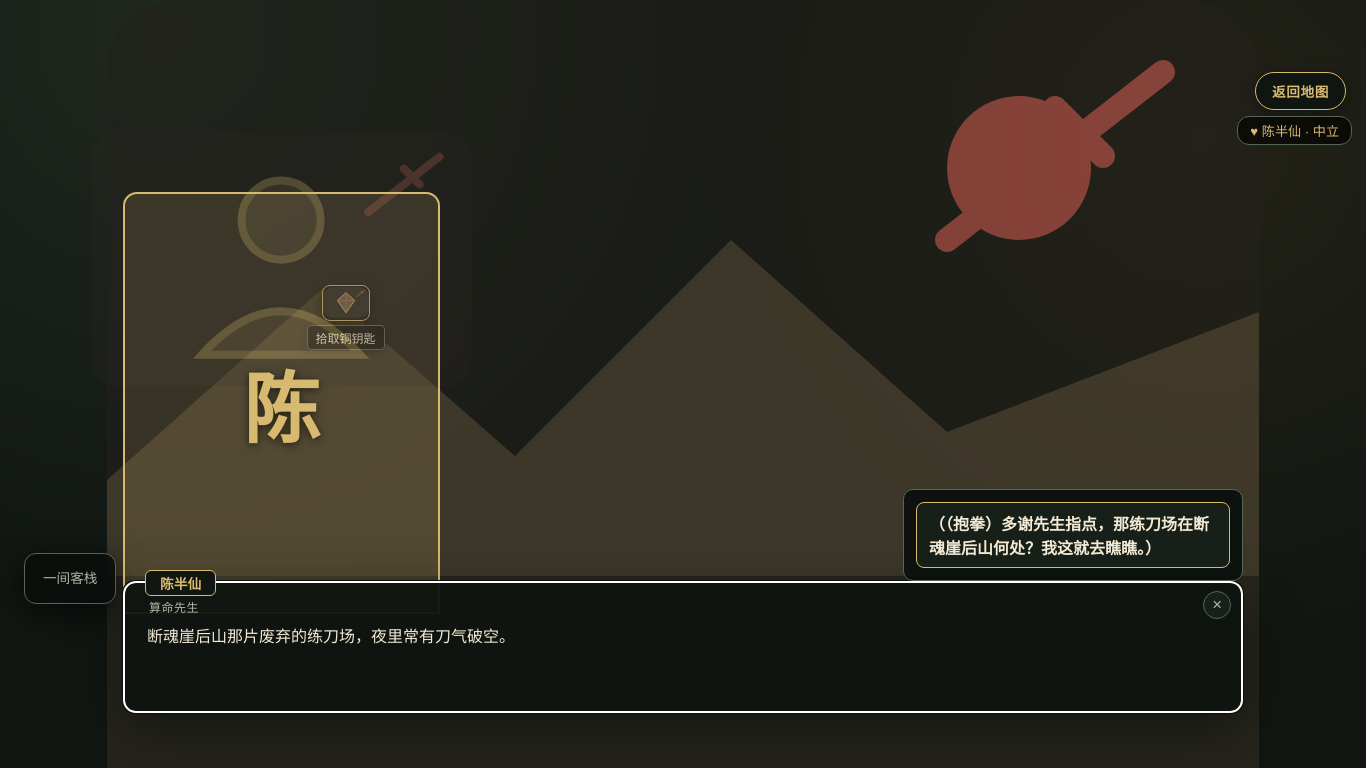
AdventureGameShell canonical opaque choices › closes a handoff acknowledgement locally without submitting or waiting
The image size is (1366, 768).
Click the button "（（抱拳）多谢先生指点，那练刀场在断魂崖后山何处？我这就去瞧瞧。）".
click(1073, 535)  # box [916, 502, 1230, 568]
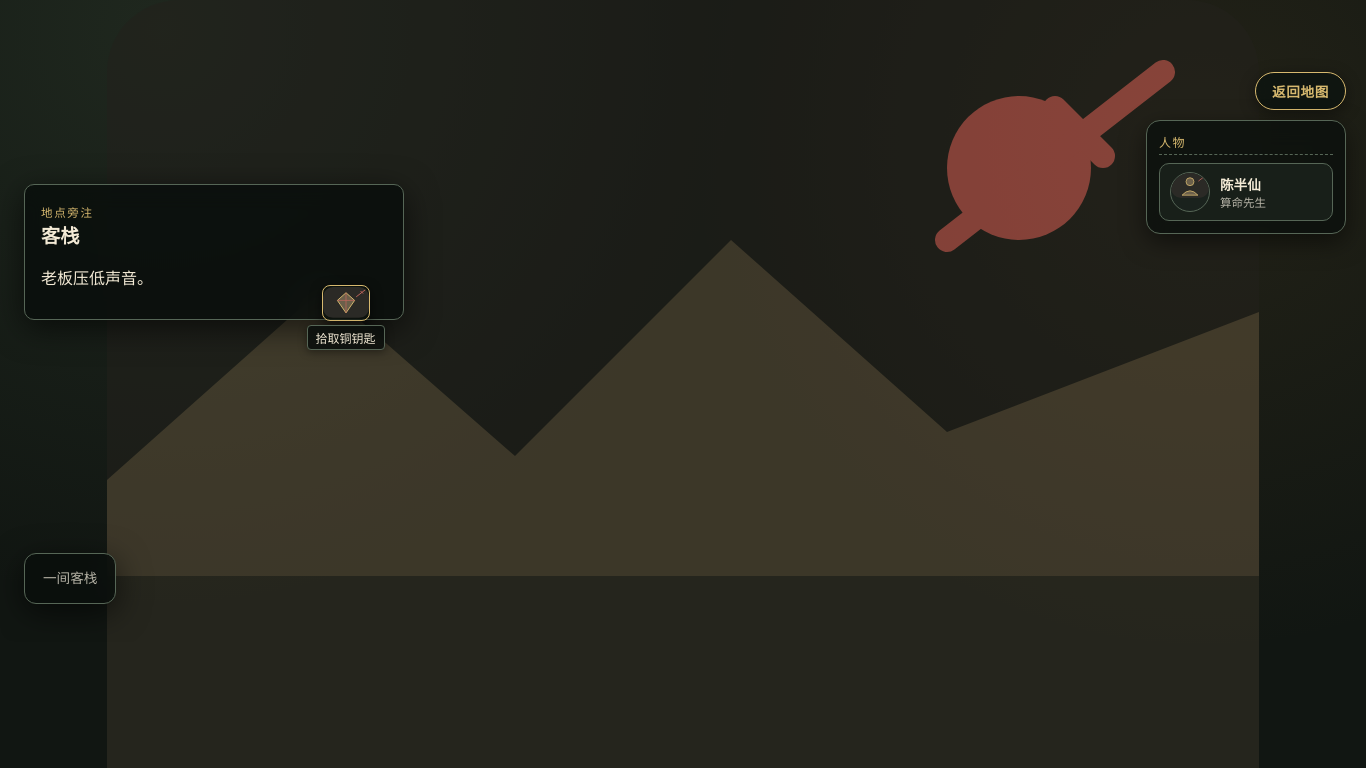
Now the dialog "与陈半仙对话" is gone
